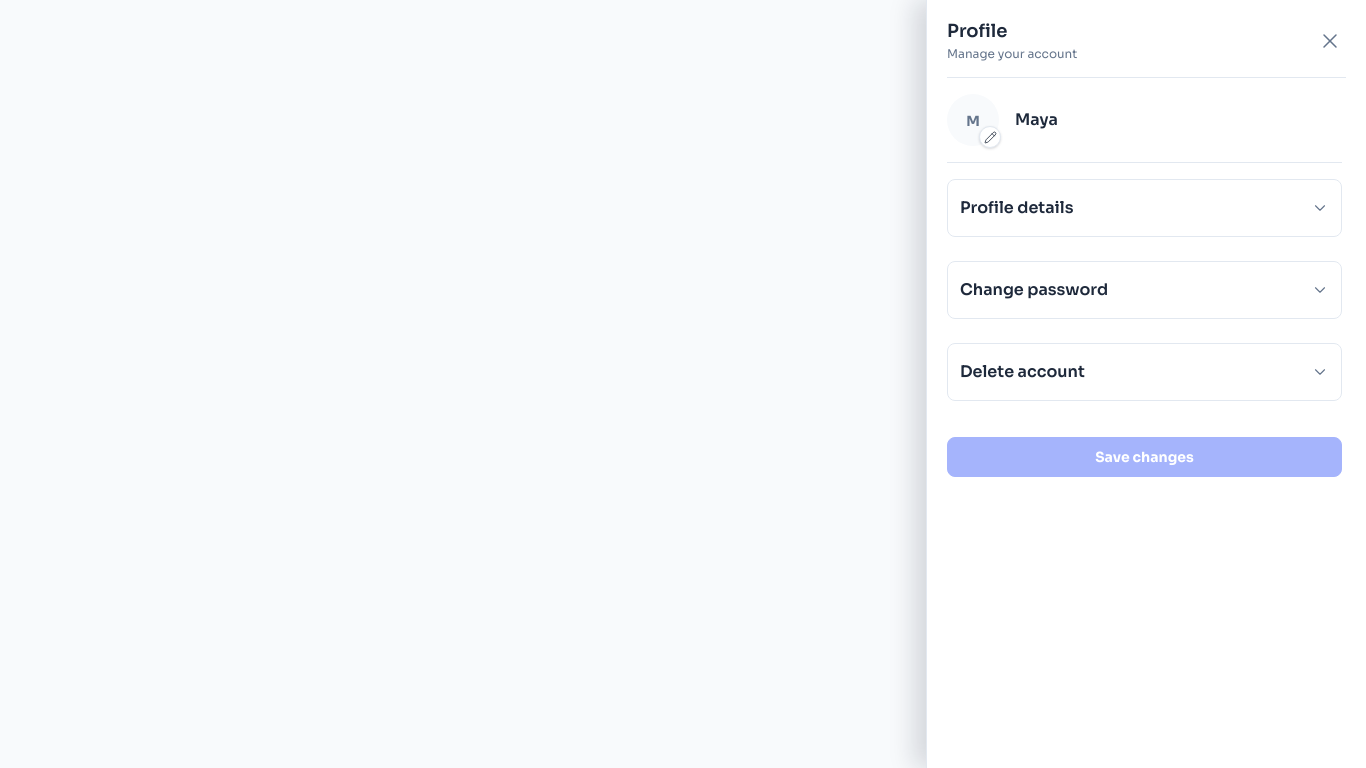
Test: ProfileDrawer › keeps delete account collapsed until opened and confirms inline
This screenshot has width=1366, height=768.
Expected: the text "Deleting your account will permanently remove" is not shown
Click the button "Delete account".
click(1022, 372)  # box [948,344,1341,400]
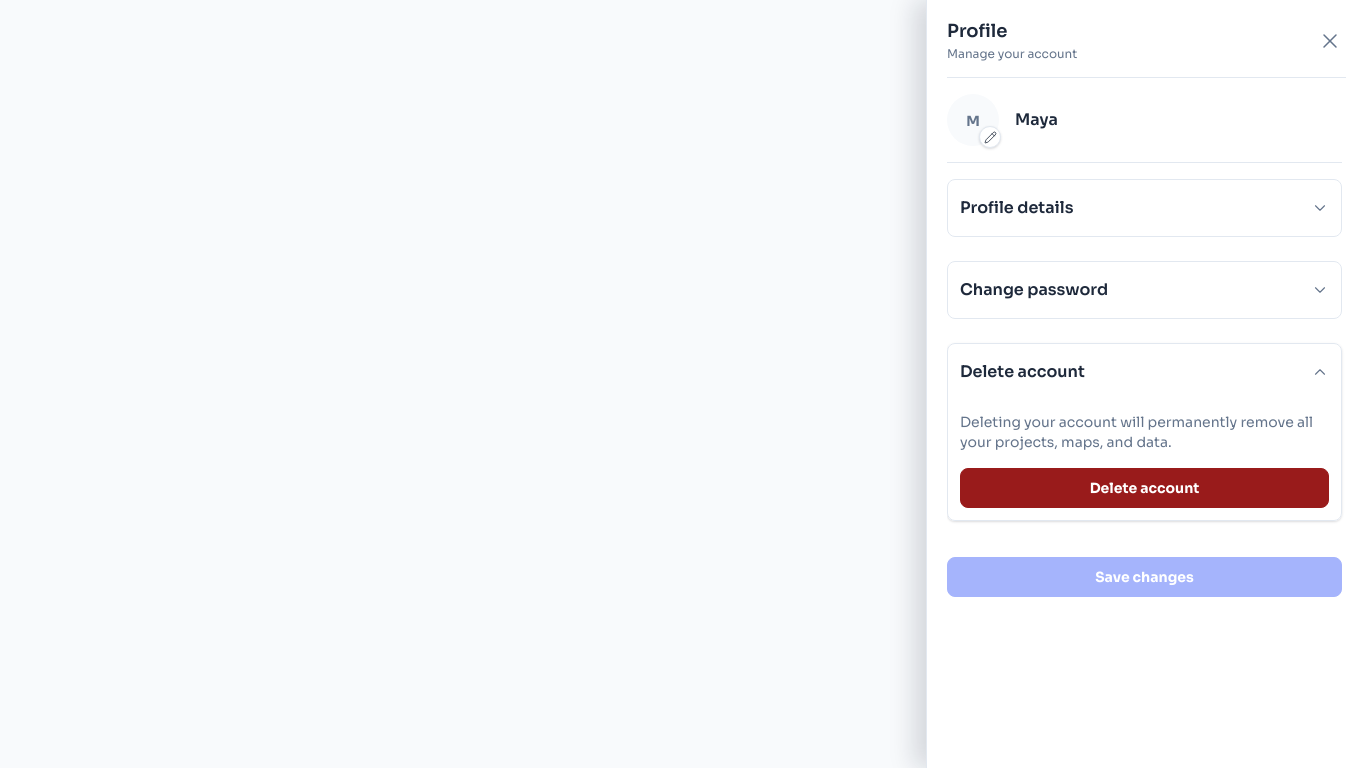
Now the 1st button "Delete account" is expanded, box [948,344,1341,400]
Now the text "Deleting your account will permanently remove" is shown, box [960,413,1313,451]
Click the 2nd button "Delete account".
click(1144, 488)  # box [960,468,1329,508]
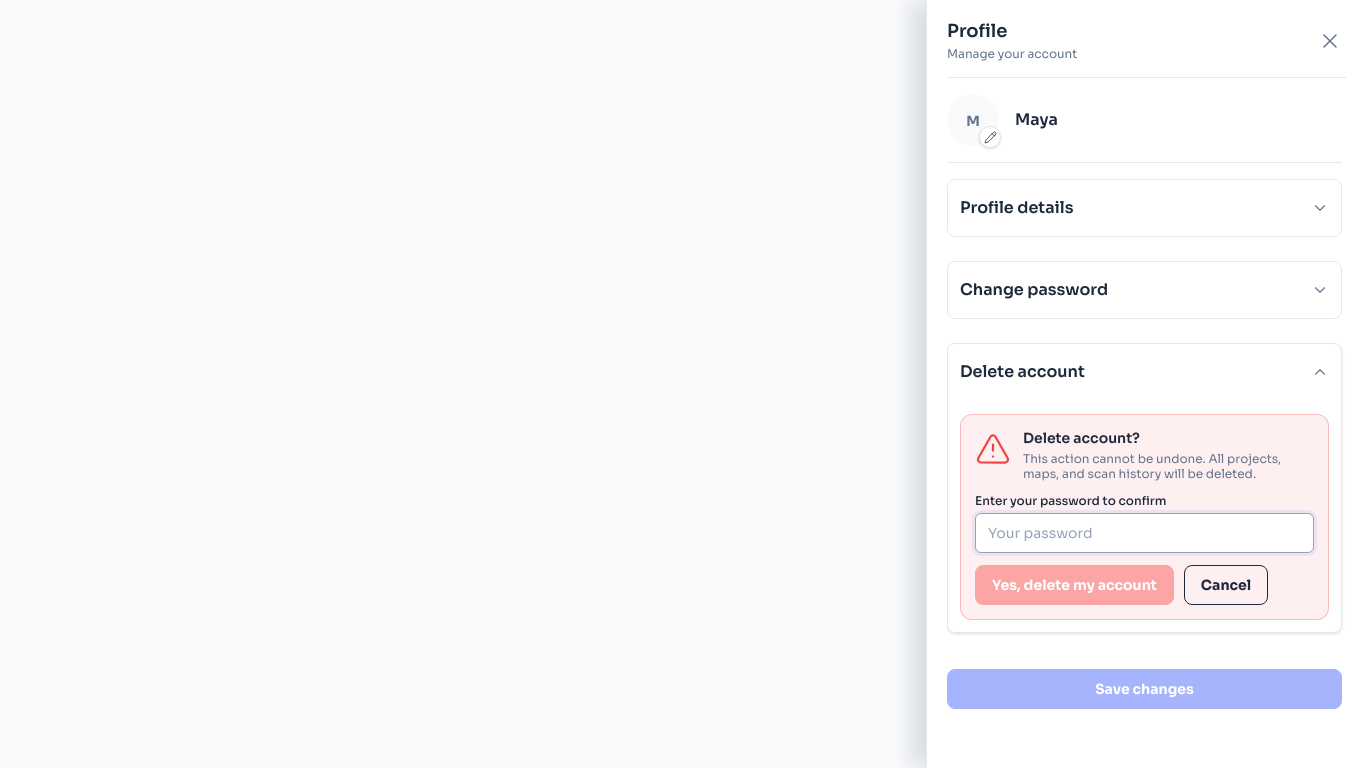
Now the text "This action cannot be undone" is shown, box [1023,451,1281,481]
Now the password field with placeholder "Your password" is shown, box [988,514,1301,552]
